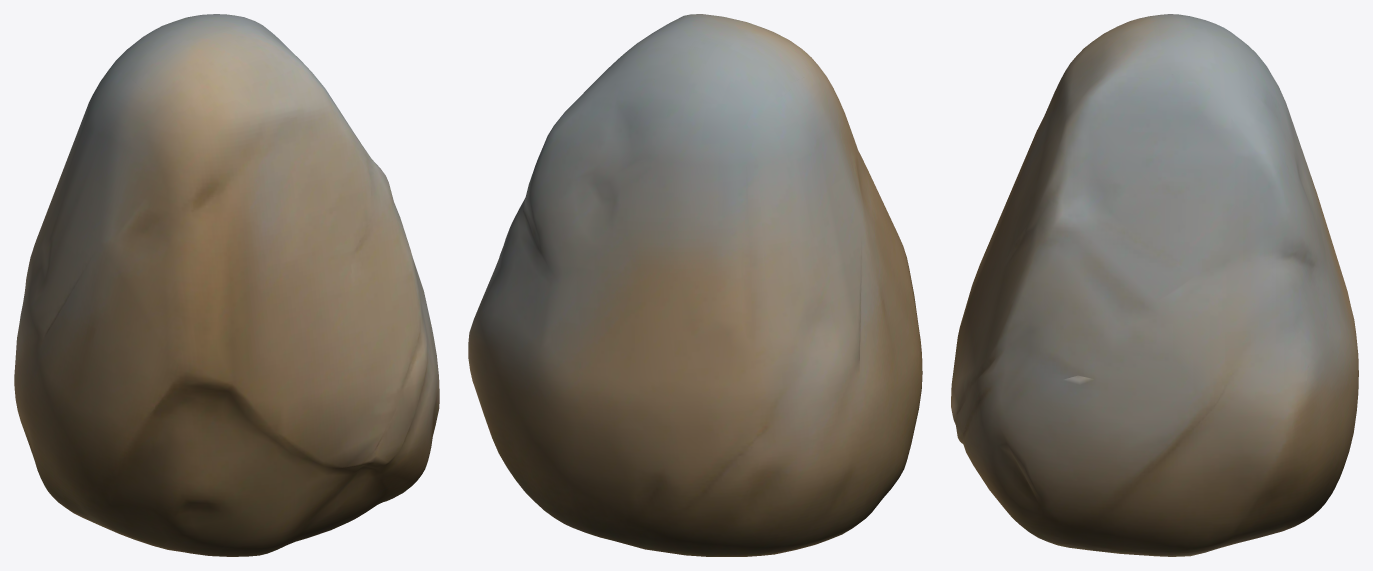
Rendered from large_rock_photographic_76eae03f_v2.glb.
The picture shows the model from 3 angles, left to right: view 1: azimuth 30°, elevation 25°; view 2: azimuth 150°, elevation 25°; view 3: azimuth 270°, elevation 25°; orthographic projection. The views are drawn at different scales.
Parts seen in each view (by area): view 1: material; view 2: material; view 3: material.
Boxes of the visible parts, box(x1,y1,x2,y2) form: material: box(14, 14, 439, 556); material: box(468, 14, 922, 556); material: box(951, 14, 1358, 556).
Size of the model in its own units: 1.55 by 1.9 by 1.54.
1 material, 1 textured.
